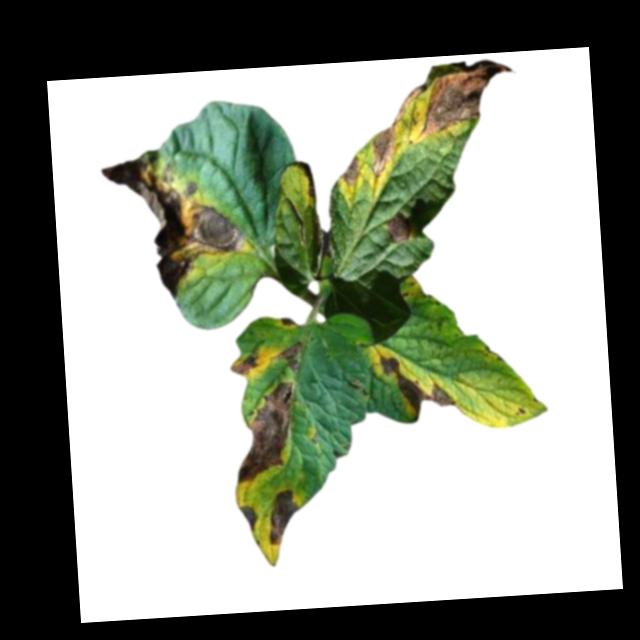Early_blight: (97, 148, 246, 283), (362, 60, 517, 178), (229, 378, 301, 483), (375, 346, 457, 414), (267, 485, 302, 548), (383, 211, 414, 243), (229, 351, 259, 378), (278, 341, 304, 371), (337, 153, 359, 185), (238, 503, 259, 533), (279, 315, 297, 328)
